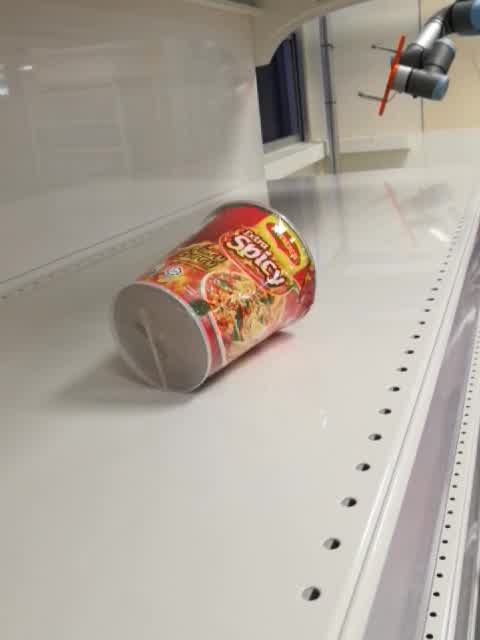maggi: (109, 198, 318, 397)
